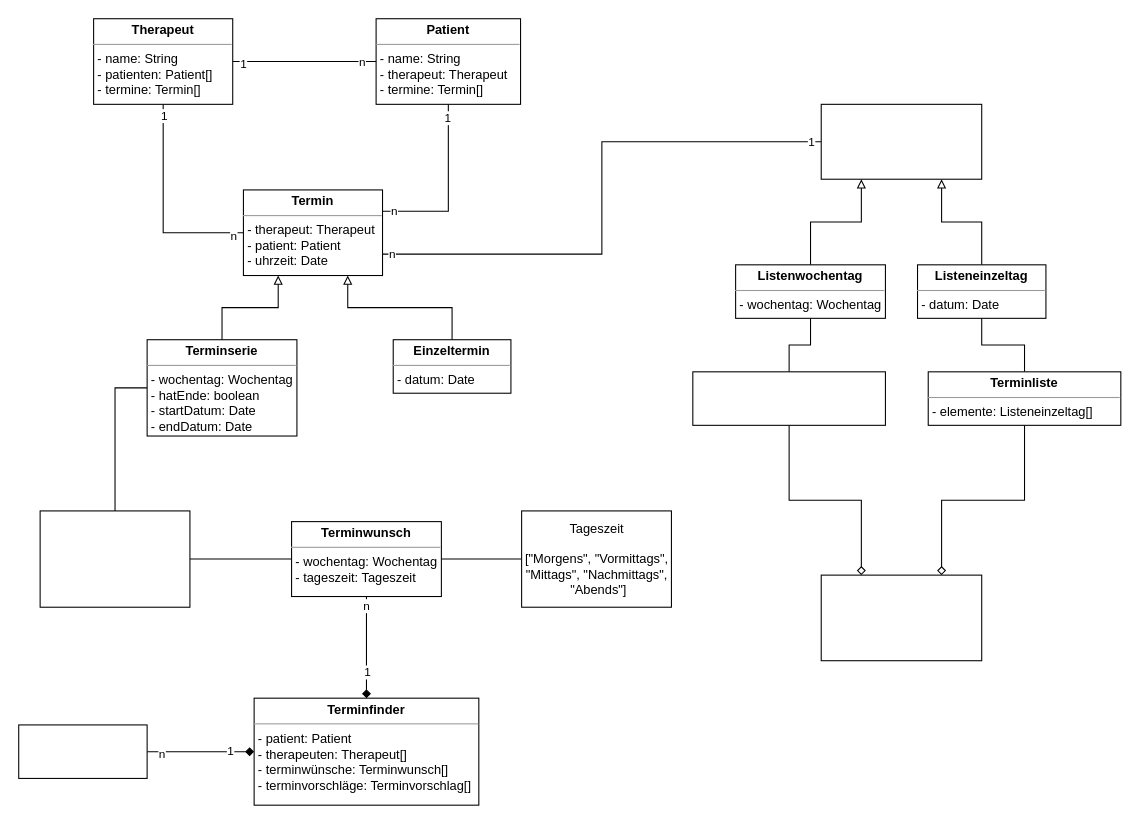
Image size: 1140x824. Some labels were removed from this diagram. The centre of each missing label's shape, as x and y in pixels:
Backup - erstellDatum: Date - stammliste: Stammliste - terminliste: Terminliste: the point at 901,617
Listentag - termine: Termin[] - therapeuten: Therapeut[]: the point at 901,141
Stammliste - elemente: Listenwochentag[]: the point at 788,398
Terminvorschlag - termin: Termin[]: the point at 82,751
Wochentag ["Montag", "Dienstag", "Mittwoch", "Donnerstag", "Freitag"]: the point at 114,558
